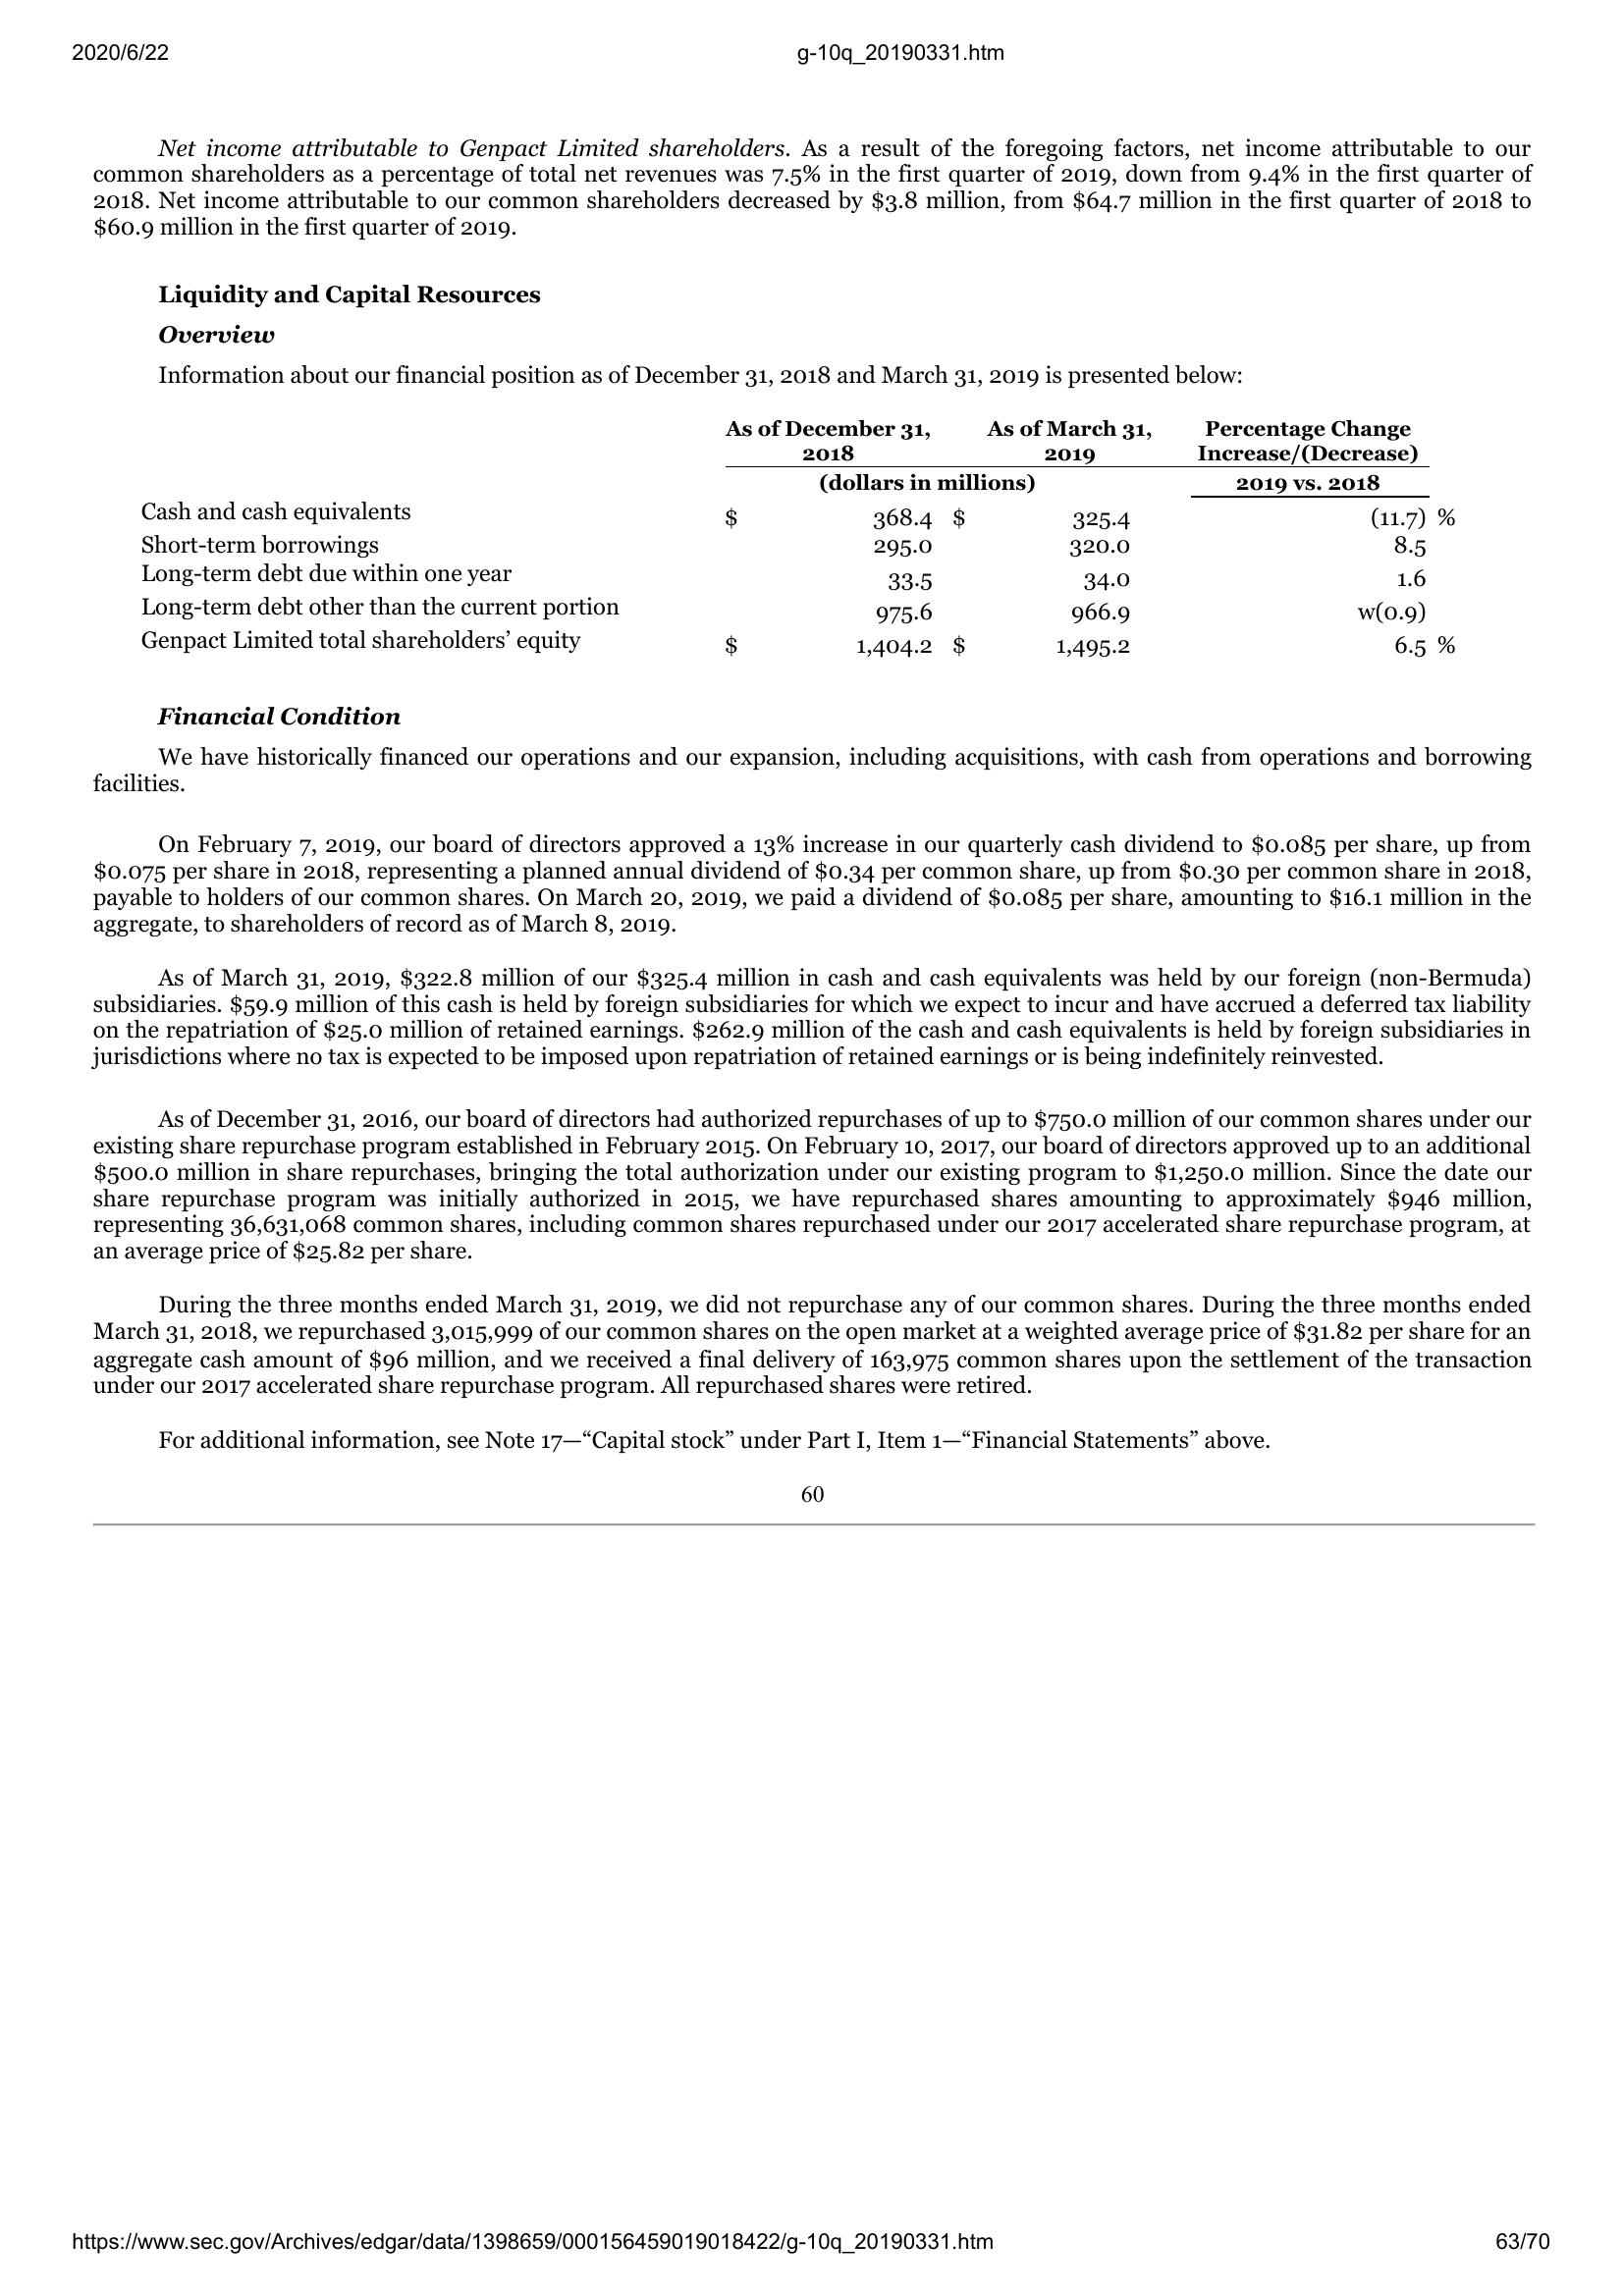table: (137, 411, 1468, 664)
